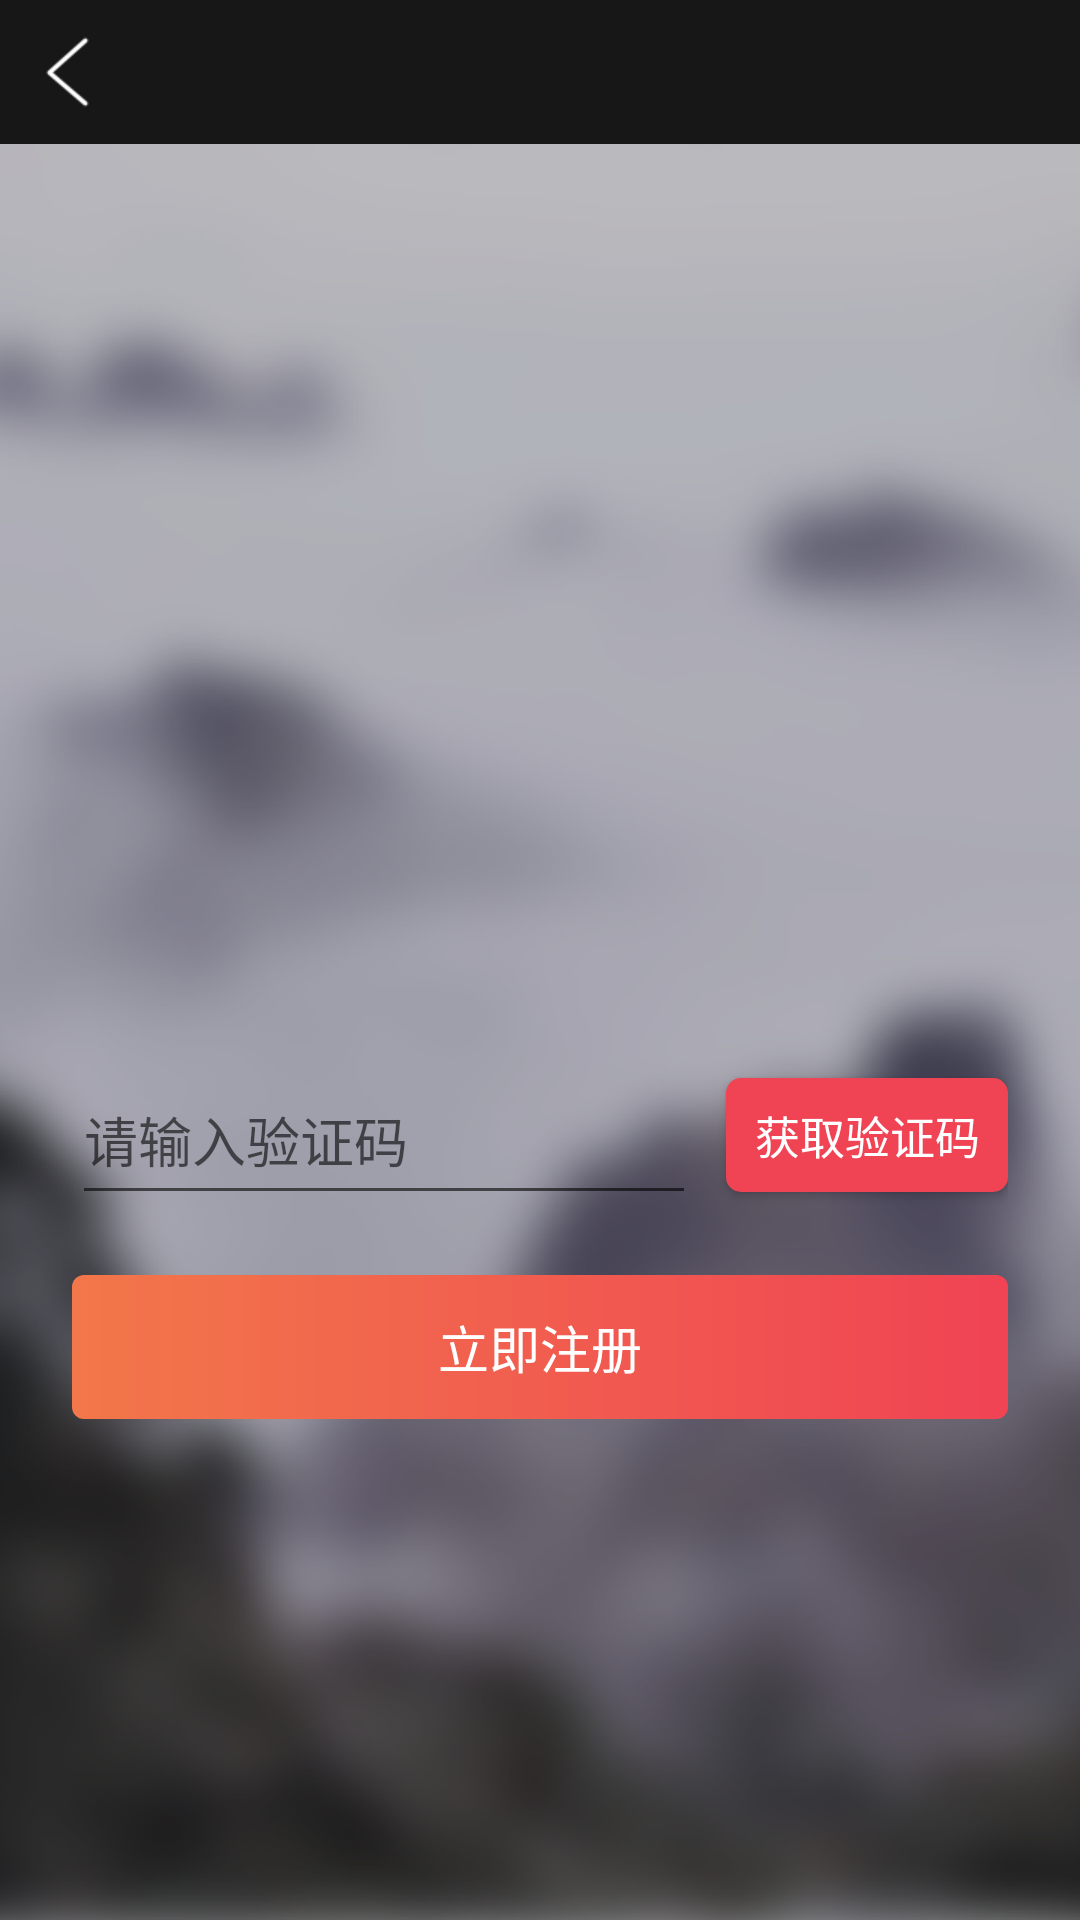

Where icons sit on this 1080px x 1920px app screen, as [x1=x1, y1=y1, x2=x2, y2=y2]:
titlebar back: [x1=46, y1=37, x2=89, y2=107]
